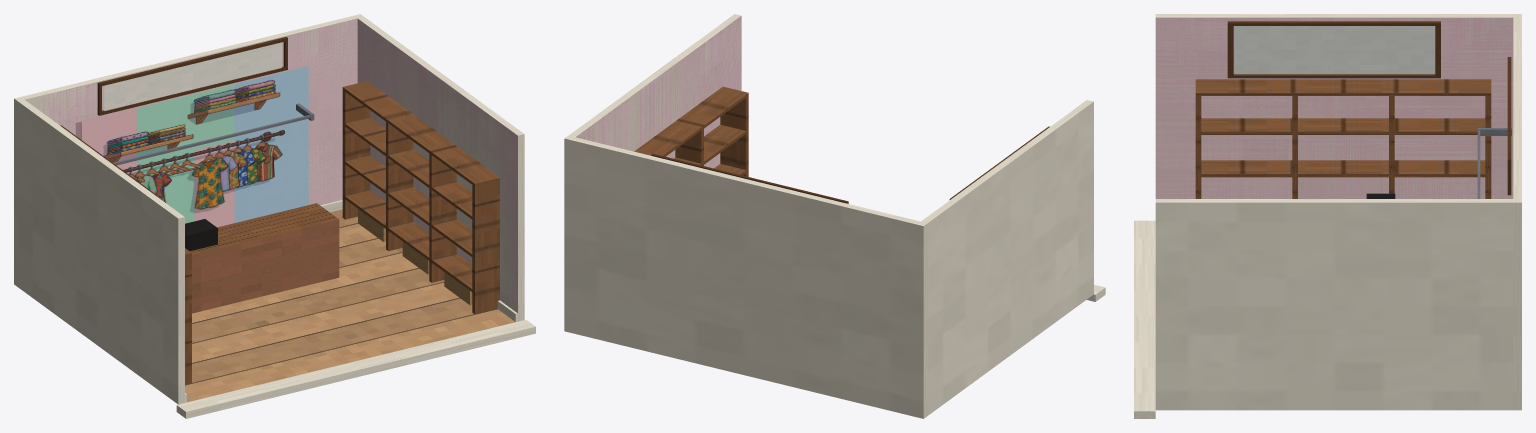
Rendered from shop-fashion.glb.
3 renders of one model, left to right at view 1: azimuth 30°, elevation 25°; view 2: azimuth 150°, elevation 25°; view 3: azimuth 270°, elevation 25°, orthographic. The views are drawn at different scales.
Visible parts, largest first — view 1: shop-fashion, shop_sign; view 2: shop-fashion; view 3: shop-fashion, photos_area.
Boxes of the visible parts, left/top/right/bottom form: shop-fashion: left=14, top=14, right=535, bottom=418; shop_sign: left=104, top=42, right=281, bottom=110; shop-fashion: left=564, top=14, right=1105, bottom=418; shop-fashion: left=1134, top=14, right=1521, bottom=418; photos_area: left=1234, top=26, right=1434, bottom=74.
Size of the model in its own units: 6.3 by 3.32 by 5.42.
Materials: 1 (1 with a texture image).
